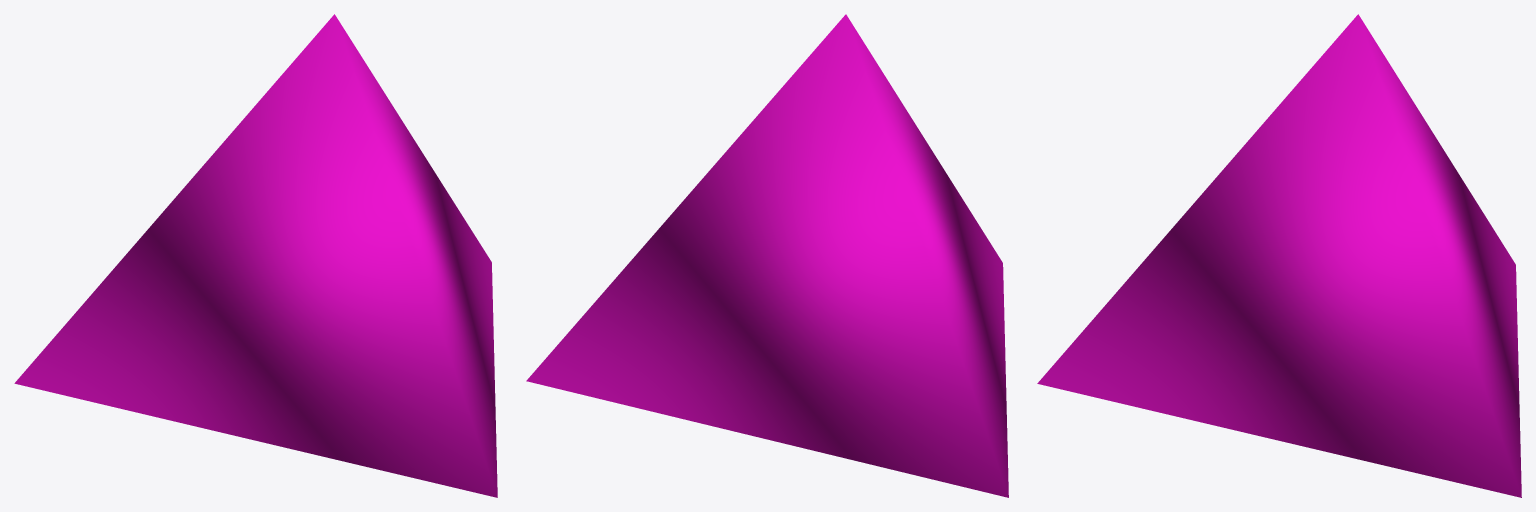
The picture shows the model from 3 angles, left to right: view 1: azimuth 30°, elevation 25°; view 2: azimuth 150°, elevation 25°; view 3: azimuth 270°, elevation 25°; orthographic projection.
Visible parts, largest first — view 1: D4; view 2: D4; view 3: D4.
Boxes of the visible parts, x1,y1,x2,y2 form: D4: (14,14,497,497); D4: (526,14,1008,497); D4: (1037,14,1521,497).
Bounding box in the file's own units: 2.08 × 1.52 × 1.81.
